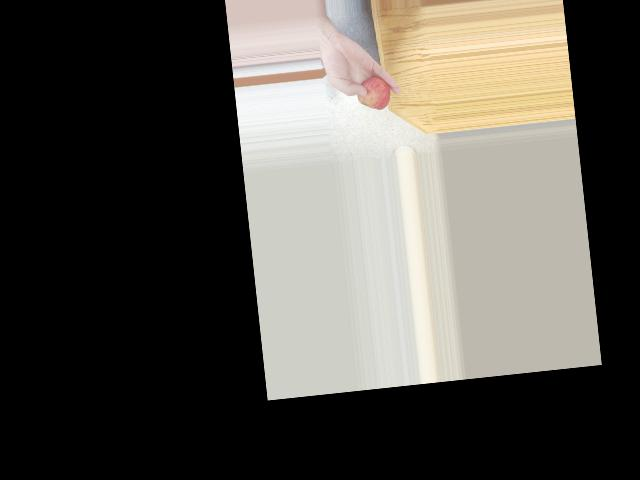apple: (351, 73, 392, 113)
